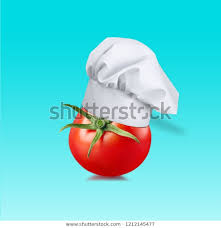tomato: (70, 107, 151, 175)
